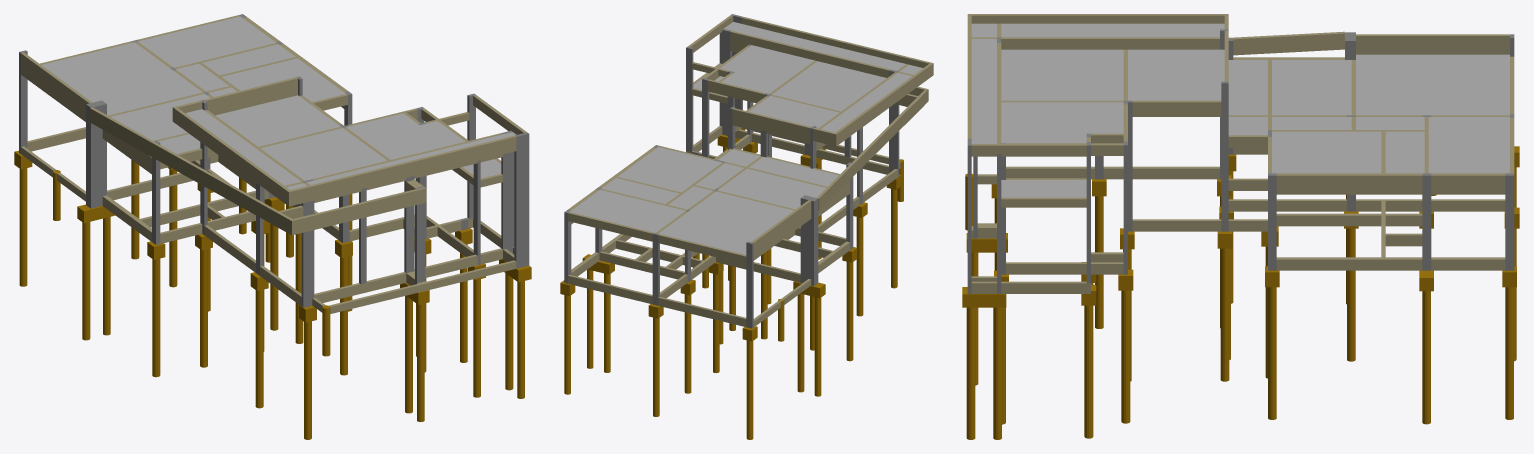
Rendered from demo_3d.glb.
3 renders of one model, left to right at view 1: azimuth 30°, elevation 25°; view 2: azimuth 150°, elevation 25°; view 3: azimuth 270°, elevation 25°, orthographic. The views are drawn at different scales.
Visible parts, largest first — view 1: BALDRAME-Concrdo_i__es, COBERTURA_1-Concrdadoajes, COBERTURA_2-Concrdadoajes, BALDRAME-Concrdadoigas, COBERTURA_1-Concrdadoigas, COBERTURA_2-Concrdadoigas, COBERTURA_1-Concrado_ares, COBERTURA_2-Concrado_ares, BALDRAME-Concrado_ares; view 2: COBERTURA_1-Concrdadoajes, BALDRAME-Concrdo_i__es, COBERTURA_2-Concrdadoajes, BALDRAME-Concrdadoigas, COBERTURA_2-Concrdadoigas, COBERTURA_1-Concrdadoigas, COBERTURA_1-Concrado_ares, COBERTURA_2-Concrado_ares, BALDRAME-Concrado_ares; view 3: COBERTURA_1-Concrdadoajes, COBERTURA_2-Concrdadoajes, BALDRAME-Concrdo_i__es, BALDRAME-Concrdadoigas, COBERTURA_1-Concrdadoigas, COBERTURA_2-Concrdadoigas, COBERTURA_1-Concrado_ares, COBERTURA_2-Concrado_ares, BALDRAME-Concrado_ares.
Boxes of the visible parts, x1=… form: BALDRAME-Concrdo_i__es: x1=14, y1=150, x2=531, y2=439; COBERTURA_1-Concrdadoajes: x1=41, y1=16, x2=501, y2=178; COBERTURA_2-Concrdadoajes: x1=185, y1=95, x2=516, y2=189; BALDRAME-Concrdadoigas: x1=21, y1=127, x2=516, y2=313; COBERTURA_1-Concrdadoigas: x1=21, y1=15, x2=502, y2=235; COBERTURA_2-Concrdadoigas: x1=172, y1=77, x2=526, y2=206; COBERTURA_1-Concrado_ares: x1=19, y1=14, x2=514, y2=280; COBERTURA_2-Concrado_ares: x1=200, y1=76, x2=529, y2=298; BALDRAME-Concrado_ares: x1=19, y1=143, x2=529, y2=307; COBERTURA_1-Concrdadoajes: x1=570, y1=64, x2=838, y2=254; BALDRAME-Concrdo_i__es: x1=560, y1=128, x2=903, y2=439; COBERTURA_2-Concrdadoajes: x1=720, y1=22, x2=922, y2=132; BALDRAME-Concrdadoigas: x1=568, y1=126, x2=900, y2=327; COBERTURA_2-Concrdadoigas: x1=688, y1=15, x2=933, y2=150; COBERTURA_1-Concrdadoigas: x1=568, y1=63, x2=928, y2=264; COBERTURA_1-Concrado_ares: x1=564, y1=88, x2=853, y2=320; COBERTURA_2-Concrado_ares: x1=686, y1=14, x2=899, y2=197; BALDRAME-Concrado_ares: x1=564, y1=126, x2=899, y2=328; COBERTURA_1-Concrdadoajes: x1=1001, y1=54, x2=1509, y2=197; COBERTURA_2-Concrdadoajes: x1=971, y1=23, x2=1224, y2=143; BALDRAME-Concrdo_i__es: x1=962, y1=146, x2=1519, y2=439; BALDRAME-Concrdadoigas: x1=971, y1=148, x2=1505, y2=293; COBERTURA_1-Concrdadoigas: x1=1001, y1=31, x2=1514, y2=207; COBERTURA_2-Concrdadoigas: x1=967, y1=14, x2=1228, y2=156; COBERTURA_1-Concrado_ares: x1=973, y1=32, x2=1514, y2=283; COBERTURA_2-Concrado_ares: x1=967, y1=29, x2=1228, y2=283; BALDRAME-Concrado_ares: x1=967, y1=148, x2=1514, y2=293.
Size of the model in its own units: 1222 by 1108 by 1882.
